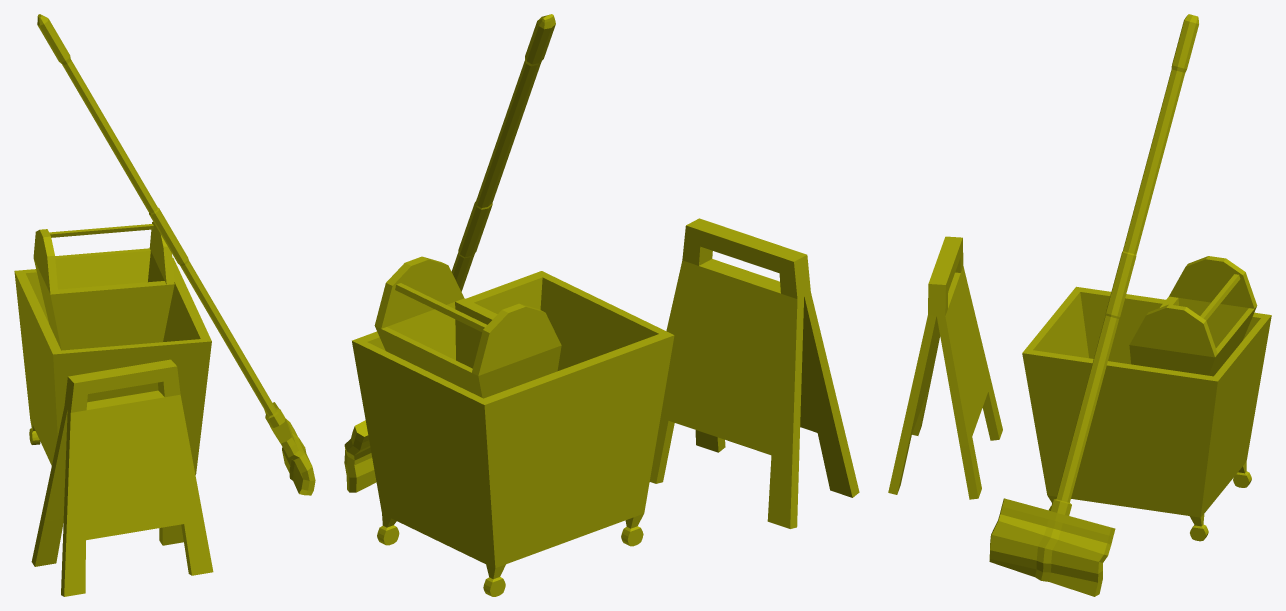
File: carrinho de limpeza.fbx
3 views of the same model, side by side, from view 1: azimuth 30°, elevation 25°; view 2: azimuth 150°, elevation 25°; view 3: azimuth 270°, elevation 25° (orthographic). The views are drawn at different scales.
Parts seen in each view (by area): view 1: Carrinho, Cube.001, Esfregao; view 2: Carrinho, Cube.001, Esfregao; view 3: Carrinho, Esfregao, Cube.001.
Part boxes in pixels (x1,y1,x2,y2): Carrinho: (14, 222, 211, 474); Cube.001: (31, 359, 213, 596); Esfregao: (37, 14, 315, 495); Carrinho: (352, 256, 674, 596); Cube.001: (649, 218, 859, 528); Esfregao: (344, 14, 555, 492); Carrinho: (1022, 256, 1271, 541); Esfregao: (989, 14, 1198, 596); Cube.001: (888, 236, 1002, 499).
Bounding box in the file's own units: 517 × 715 × 520.
